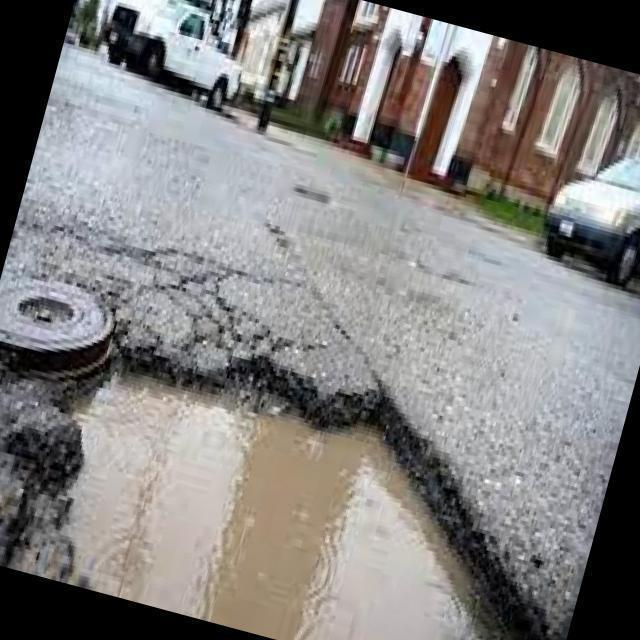pothole: (69, 354, 566, 640)
